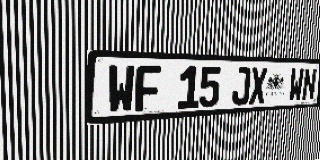1: (178, 66, 201, 109)
5: (199, 66, 221, 108)
F: (135, 65, 161, 112)
J: (232, 67, 251, 106)
N: (302, 68, 317, 101)
W: (107, 65, 135, 114), (288, 68, 304, 102)
X: (249, 67, 267, 104)
